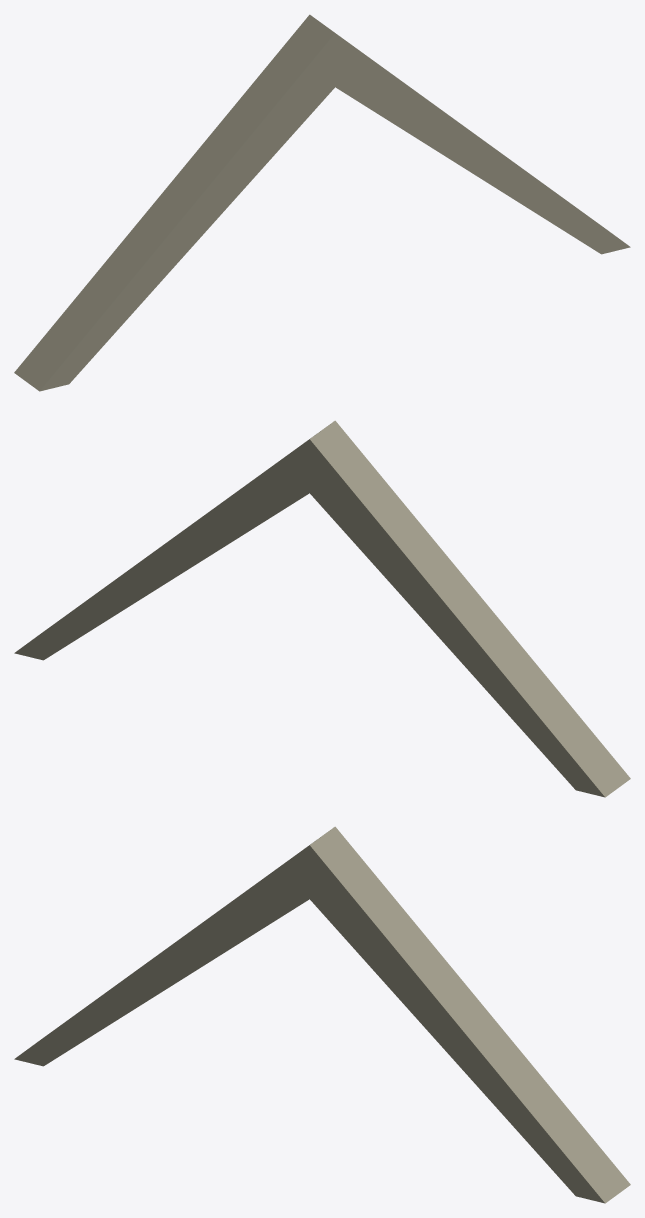
The model's file is WP_A24_roof_rib_4m_v02.glb.
3 renders of one model, top to bottom at view 1: azimuth 30°, elevation 25°; view 2: azimuth 150°, elevation 25°; view 3: azimuth 330°, elevation 25°, orthographic.
Parts seen in each view (by area): view 1: RoofRib; view 2: RoofRib; view 3: RoofRib.
Boxes of the visible parts, <box> form: RoofRib: <box>14,14,630,391</box>; RoofRib: <box>14,420,630,797</box>; RoofRib: <box>14,826,630,1203</box>.
Size of the model in its own units: 4 by 1.85 by 0.3.
